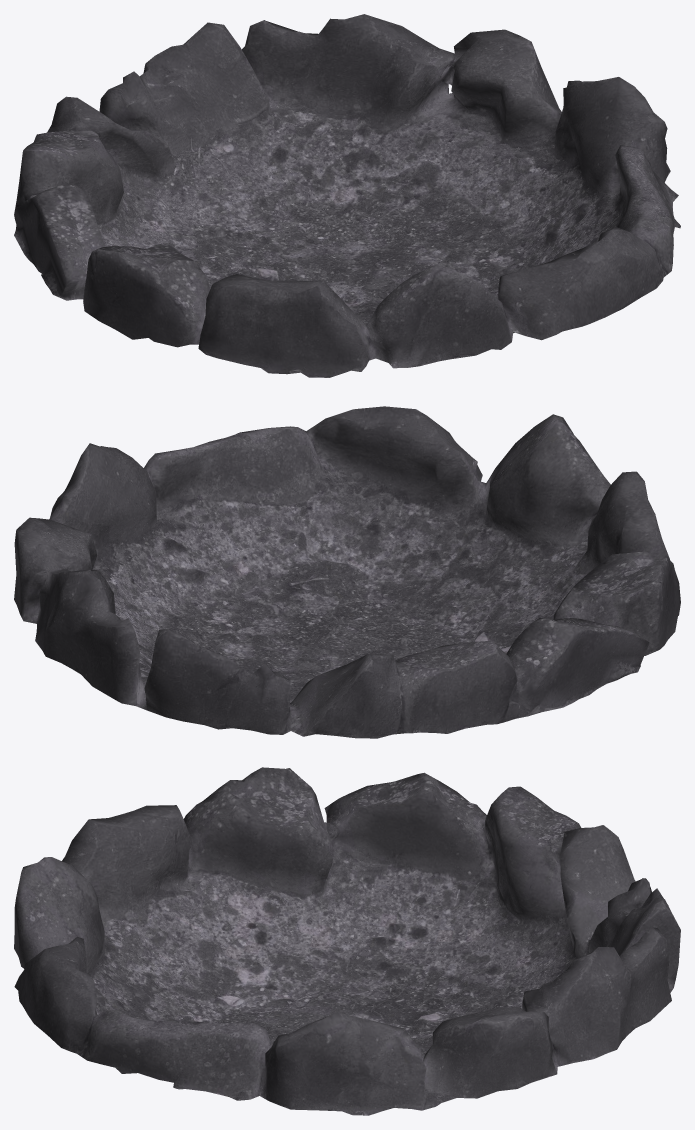
File: ph_fire_pit.gltf
The picture shows the model from 3 angles, top to bottom: view 1: azimuth 30°, elevation 25°; view 2: azimuth 150°, elevation 25°; view 3: azimuth 270°, elevation 25°; orthographic projection.
Parts seen in each view (by area): view 1: ph_fire_pit; view 2: ph_fire_pit; view 3: ph_fire_pit.
Boxes of the visible parts, x1=… form: ph_fire_pit: x1=14, y1=14, x2=680, y2=377; ph_fire_pit: x1=14, y1=406, x2=680, y2=738; ph_fire_pit: x1=14, y1=767, x2=680, y2=1115.
Size of the model in its own units: 1.45 by 0.3883 by 1.43.
1 material, 1 textured.
